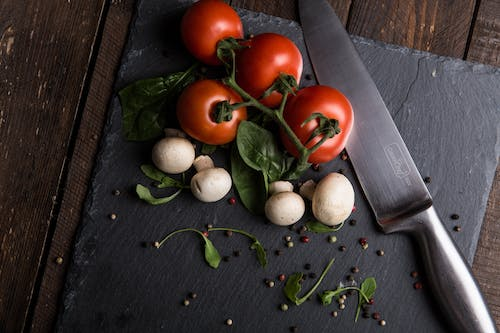knife: (296, 0, 500, 333)
